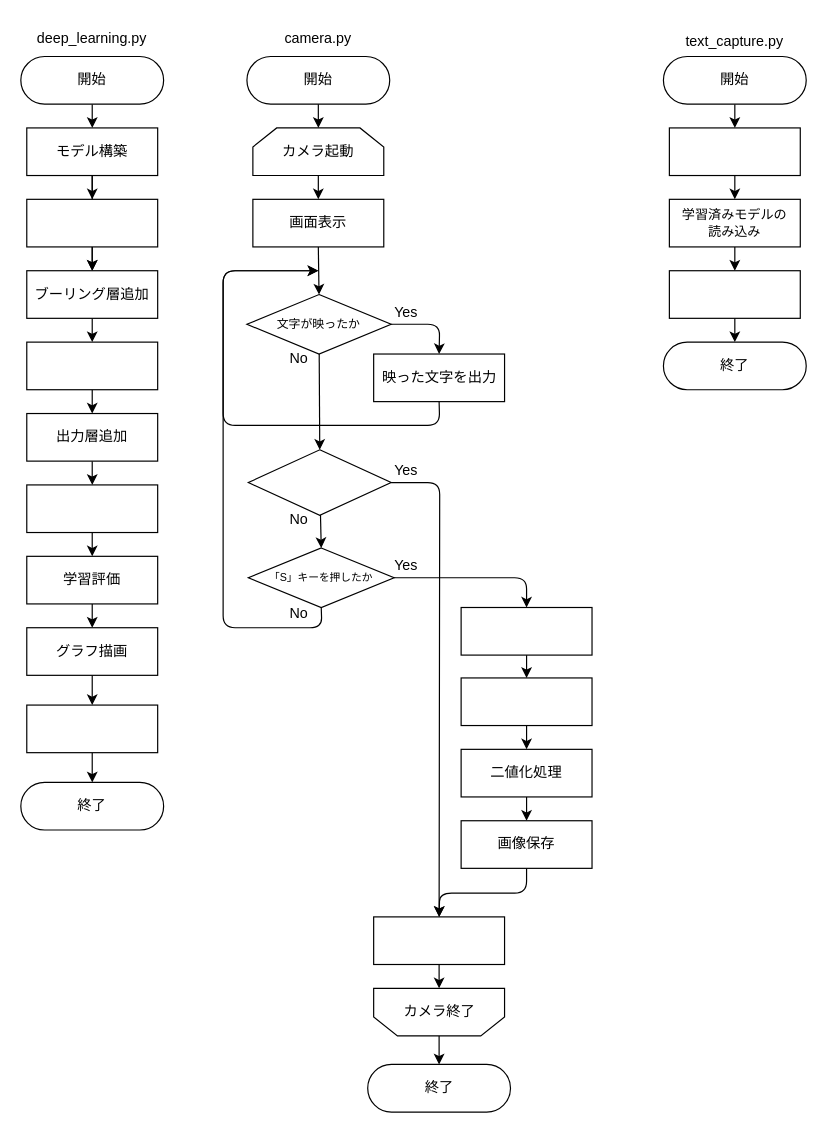
The diagram is 827 pixels wide and 1133 high, and some of its shapes have lost their labels. Each missing label, with the centre of its shape:
「Q」キー、または 「×」ボタンを押したか: point (319, 482)
グレースケール変換: point (526, 701)
サンプル検証: point (92, 728)
全結合層追加: point (92, 365)
学習実行: point (92, 508)
撮影画像の読み込み: point (734, 151)
文字判定: point (734, 294)
画面撮影: point (526, 630)
画面表示終了: point (438, 940)
畳み込み層追加: point (92, 222)
